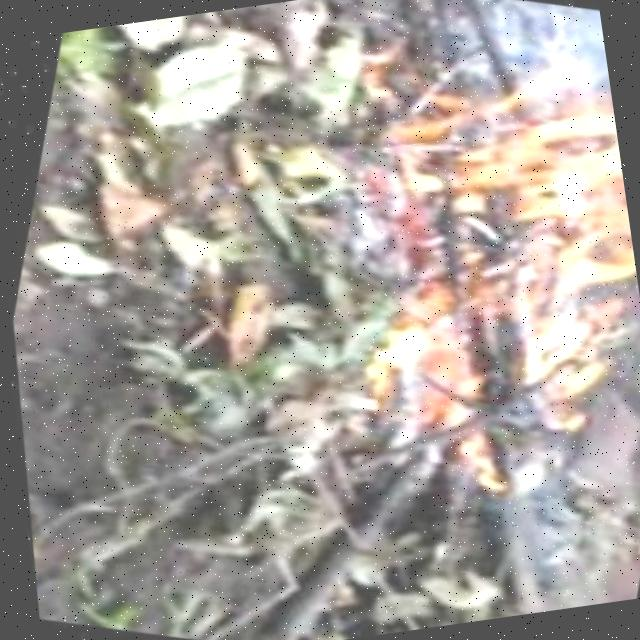fire: (310, 27, 640, 453)
